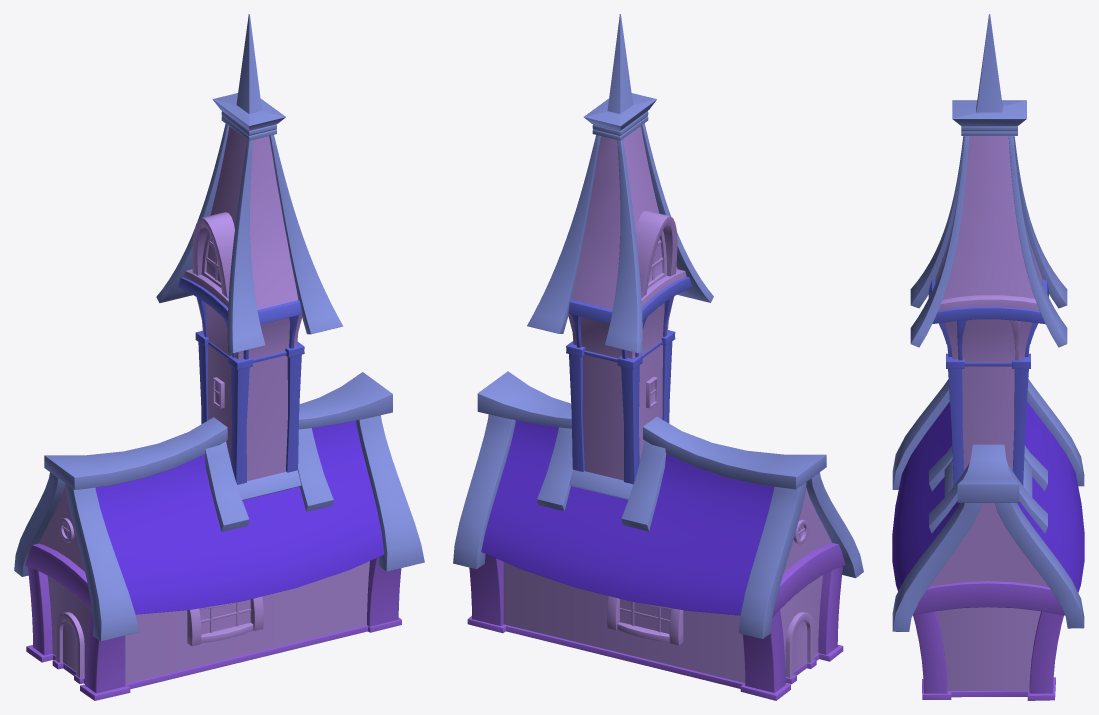
3 views of the same model, side by side, from view 1: azimuth 30°, elevation 25°; view 2: azimuth 150°, elevation 25°; view 3: azimuth 270°, elevation 25° (orthographic).
Visible parts, largest first — view 1: Stylized_building_05; view 2: Stylized_building_05; view 3: Stylized_building_05.
Part boxes in pixels (x1,y1,x2,y2): Stylized_building_05: [14, 14, 424, 700]; Stylized_building_05: [453, 14, 863, 700]; Stylized_building_05: [892, 14, 1084, 700].
Size of the model in its own units: 2369 by 4301 by 1198.
